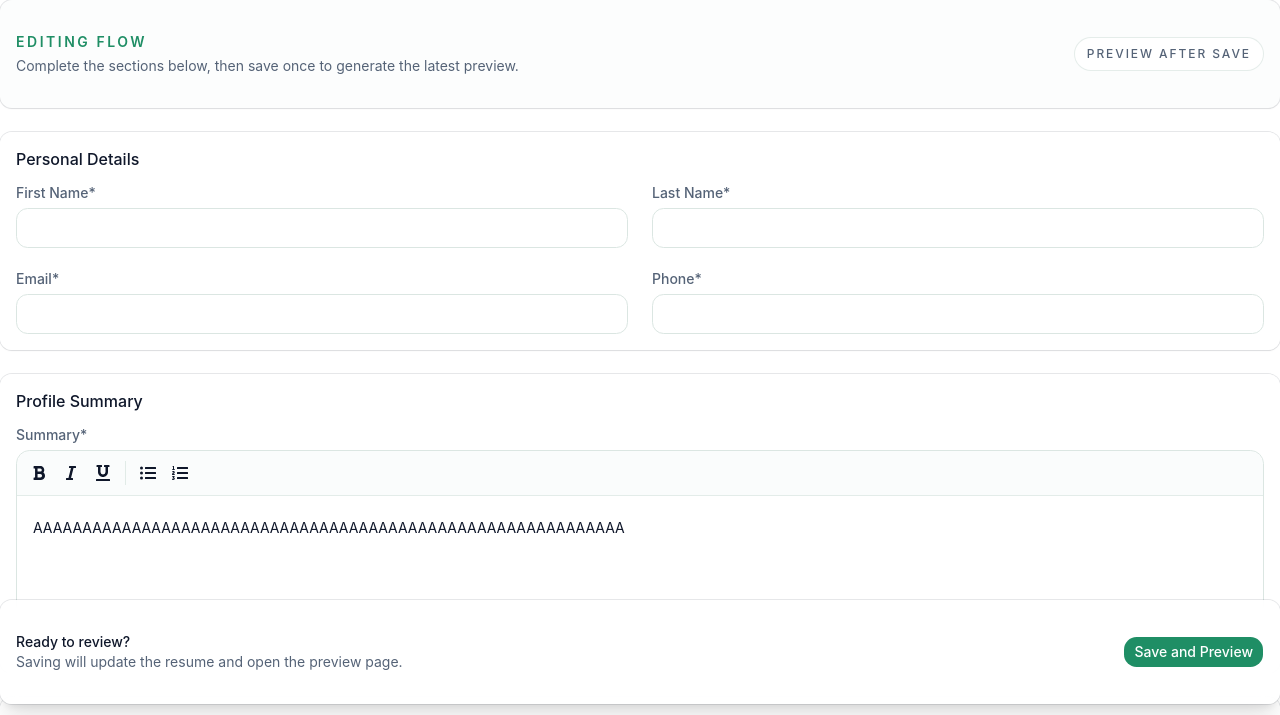
Scenario: ResumeForm › shows a submit error when saving fails
Click the button "Save and Preview" at (1194, 652), box top-left (1124, 636), bottom-right (1264, 668)
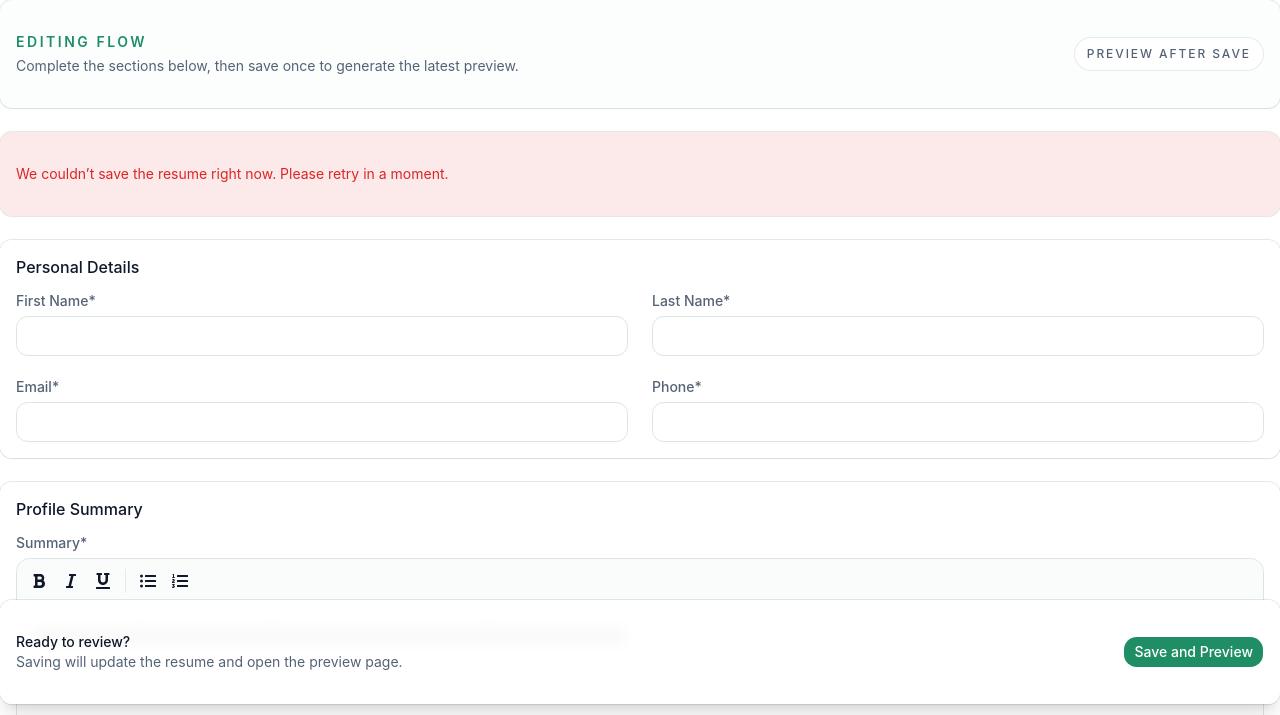
Now the text "We couldn’t save the resume right now. Please retry in a moment." is shown, box top-left (16, 165), bottom-right (448, 182)
